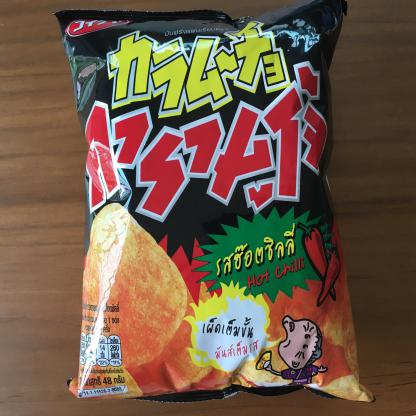potatochip: (55, 0, 379, 406)
